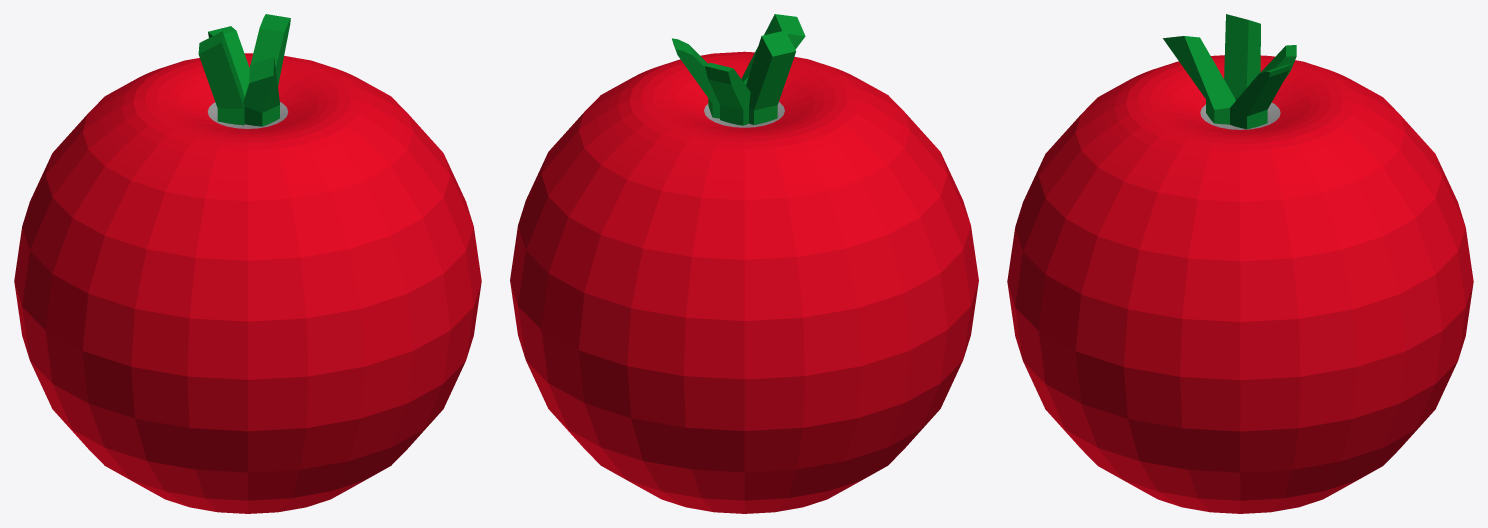
Rendered from tomato.fbx.
3 views of the same model, side by side, from view 1: azimuth 30°, elevation 25°; view 2: azimuth 150°, elevation 25°; view 3: azimuth 270°, elevation 25° (orthographic).
Parts seen in each view (by area): view 1: Sphere, Cube.003, Cube.002, Cube.001, Cube; view 2: Sphere, Cube.003, Cube, Cube.001, Cube.002; view 3: Sphere, Cube.002, Cube.003, Cube.001.
Boxes of the visible parts, box(x1,y1,x2,y2) form: Sphere: box(14, 53, 481, 513); Cube.003: box(198, 31, 244, 125); Cube.002: box(243, 57, 279, 126); Cube.001: box(251, 14, 290, 85); Cube: box(208, 26, 249, 97); Sphere: box(510, 51, 978, 513); Cube.003: box(746, 30, 796, 124); Cube: box(705, 62, 750, 125); Cube.001: box(672, 38, 719, 118); Cube.002: box(741, 14, 805, 84); Sphere: box(1007, 55, 1473, 513); Cube.002: box(1163, 36, 1235, 124); Cube.003: box(1224, 14, 1260, 100); Cube.001: box(1230, 64, 1290, 129).
Size of the model in its own units: 200 by 219 by 200.
